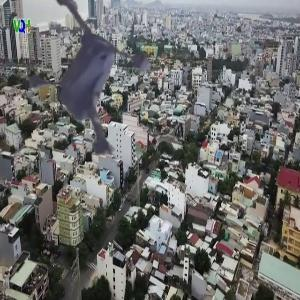drone: (11, 4, 196, 189)
